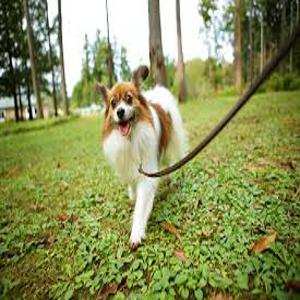yell: (92, 64, 184, 249)
